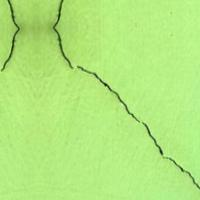crack: (0, 0, 198, 185)
